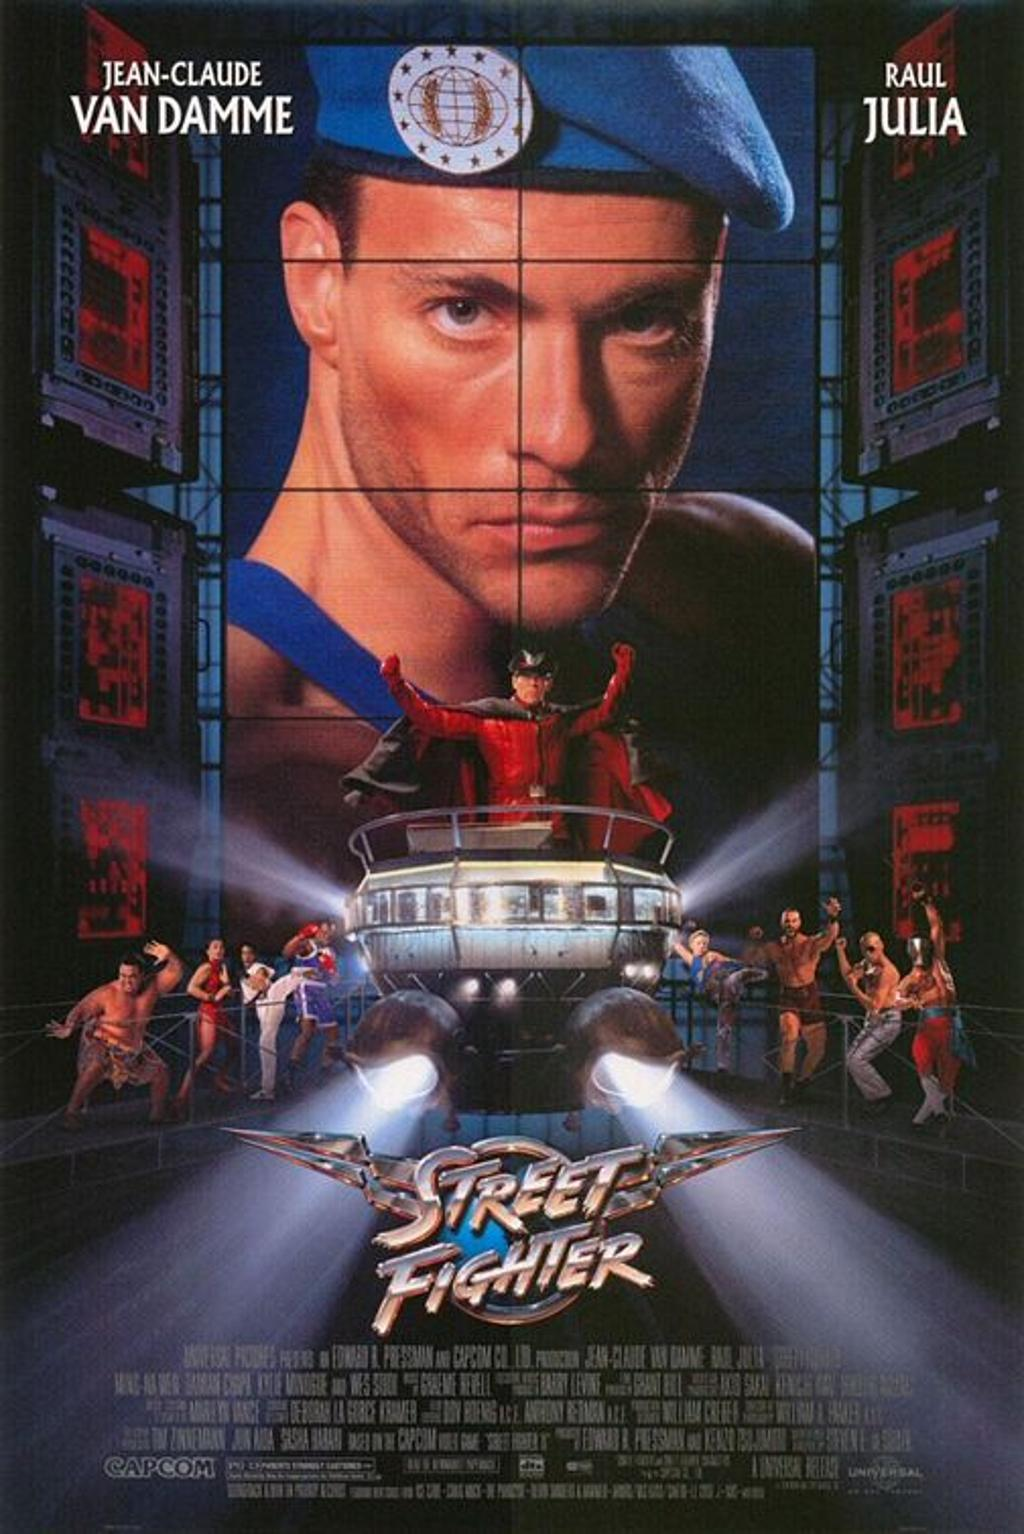face: (353, 177, 718, 632)
